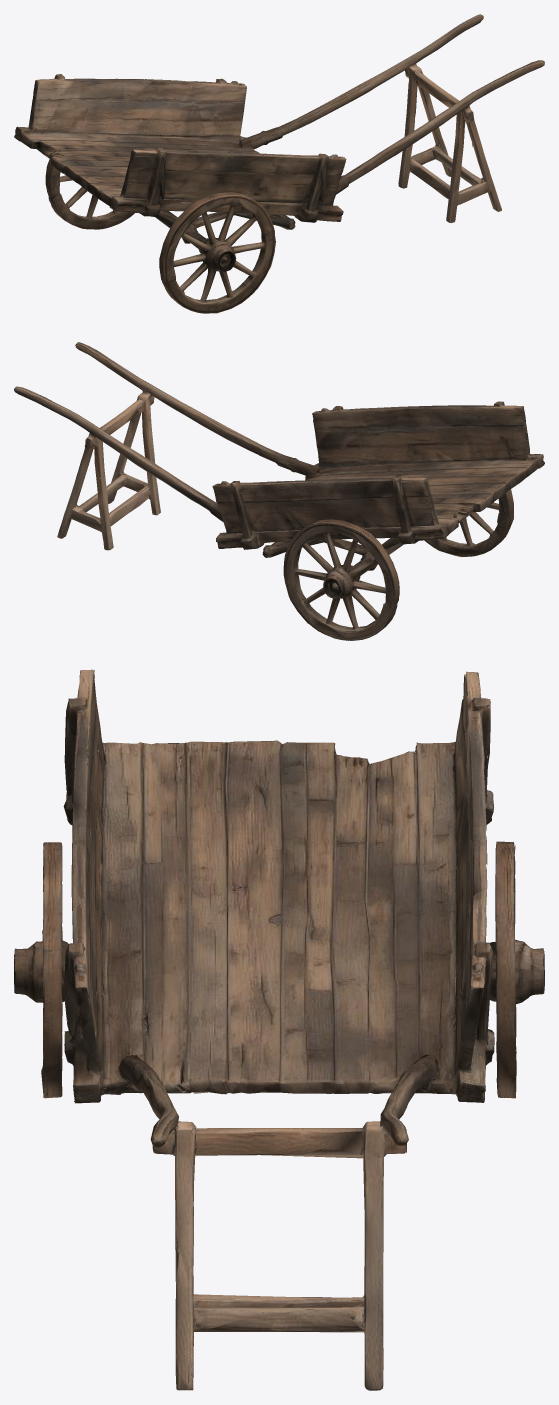
Rendered from roof-ramp-cart.glb.
3 views of the same model, one above another, from view 1: azimuth 30°, elevation 25°; view 2: azimuth 150°, elevation 25°; view 3: azimuth 270°, elevation 25° (orthographic). The views are drawn at different scales.
Visible parts, largest first — view 1: Mesh_0; view 2: Mesh_0; view 3: Mesh_0.
Boxes of the visible parts, x1,y1,x2,y2 form: Mesh_0: (14,14,544,313); Mesh_0: (14,342,544,640); Mesh_0: (14,669,544,1390).
Size of the model in its own units: 1.9 by 0.6957 by 0.9756.
1 material, 1 textured.
